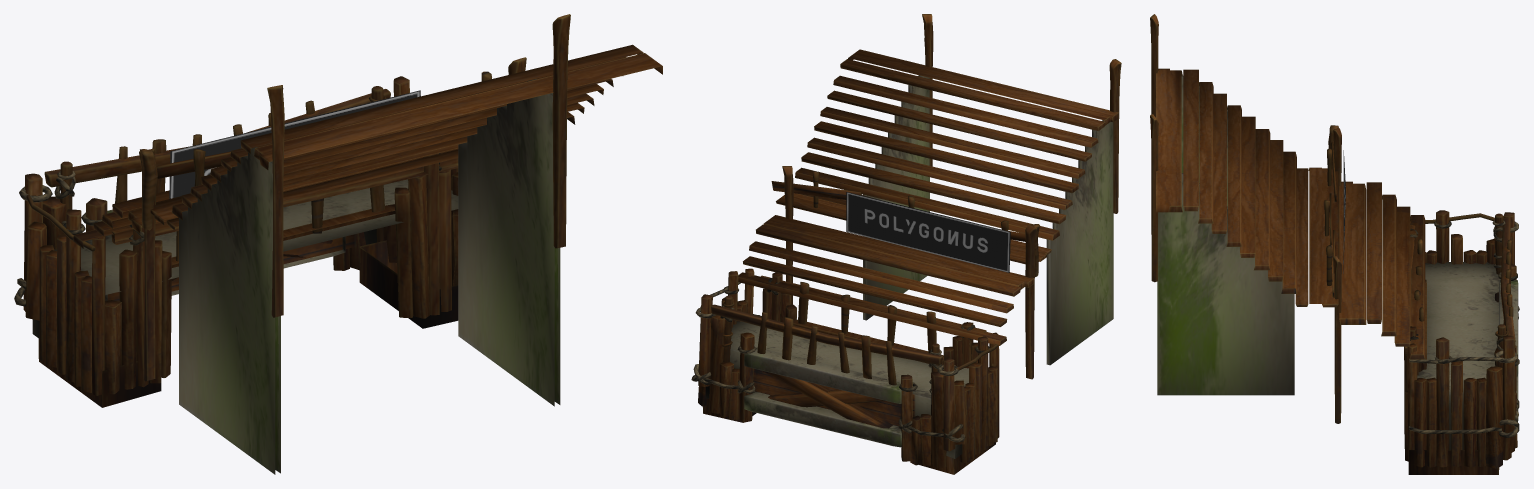
File: SM_WBT_stadiumDoor_low.fbx
The picture shows the model from 3 angles, left to right: view 1: azimuth 30°, elevation 25°; view 2: azimuth 150°, elevation 25°; view 3: azimuth 270°, elevation 25°; orthographic projection. The views are drawn at different scales.
Parts seen in each view (by area): view 1: SM_WBT_Door; view 2: SM_WBT_Door; view 3: SM_WBT_Door.
Boxes of the visible parts, x1,y1,x2,y2 form: SM_WBT_Door: (14, 14, 662, 474); SM_WBT_Door: (691, 14, 1121, 474); SM_WBT_Door: (1150, 14, 1519, 474).
Bounding box in the file's own units: 2246 × 2437 × 2356.
